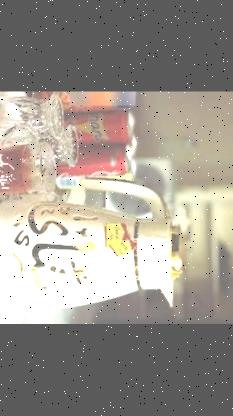Can: (54, 108, 133, 149), (55, 142, 130, 180)
